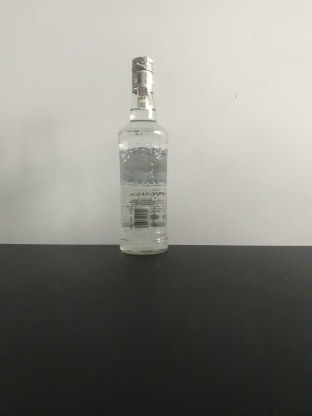nakretka: (130, 53, 155, 94)
